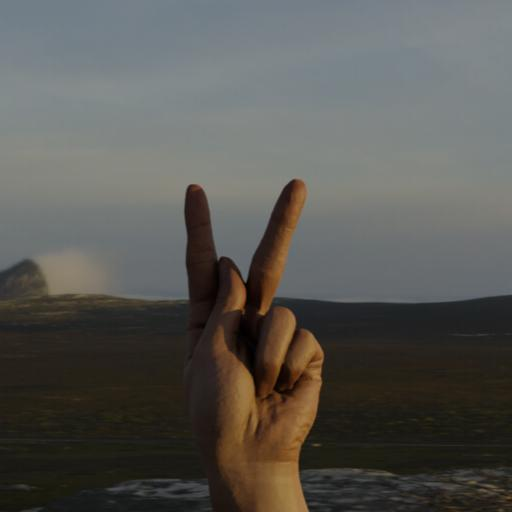K: (176, 178, 330, 472)
